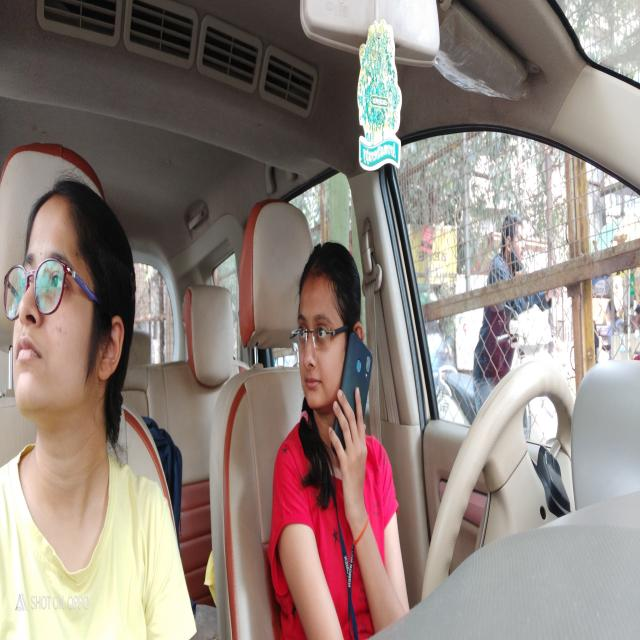mobile: (346, 328, 374, 447)
person: (9, 186, 137, 400), (296, 231, 366, 414)
